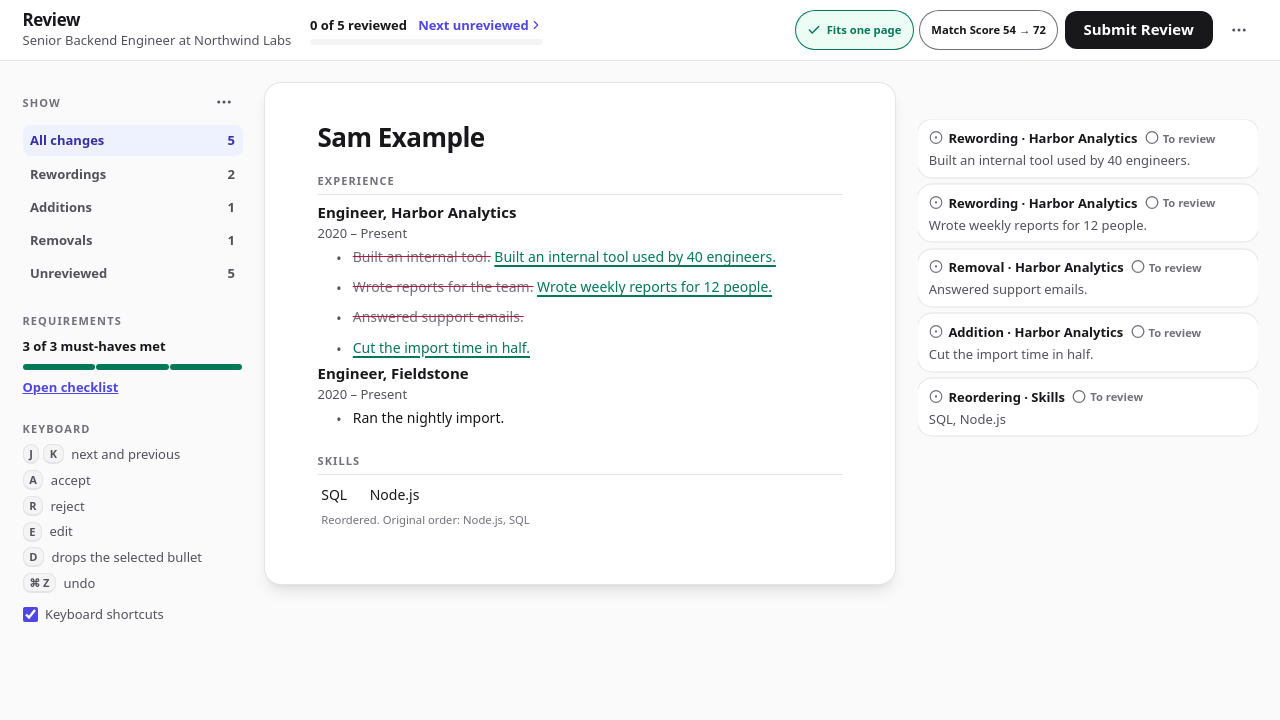
it: Review screen: the CV page › selects a Change by clicking its mark, without moving focus off the mark
The image size is (1280, 720).
Click the button that starts with "Wrote reports for the team.": (596, 288) [349,274,842,301]
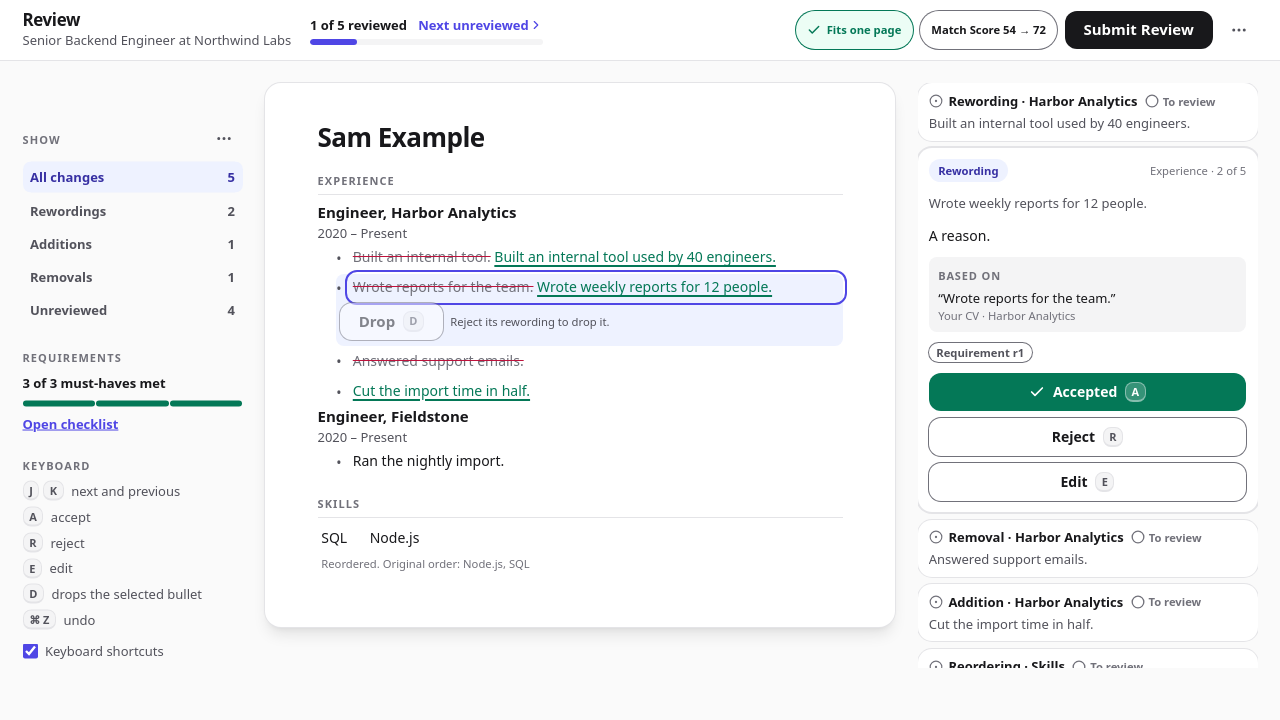
Result: the text "A reason." is shown at [929,226,990,244]
